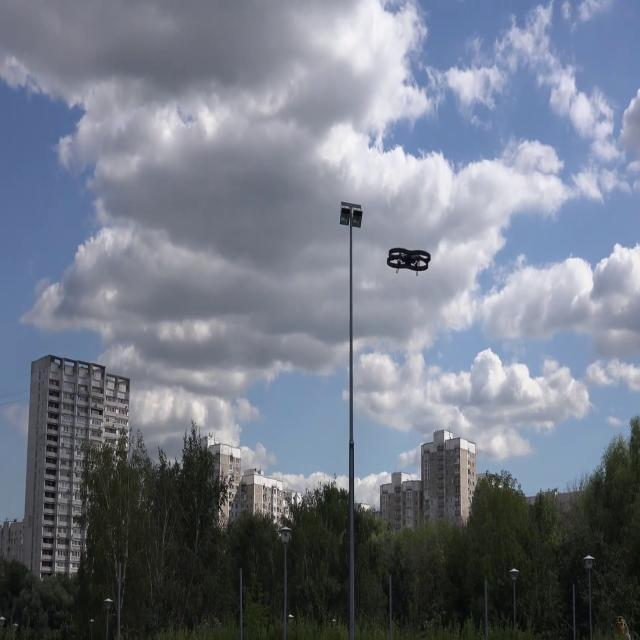Drons: (382, 246, 434, 276)
